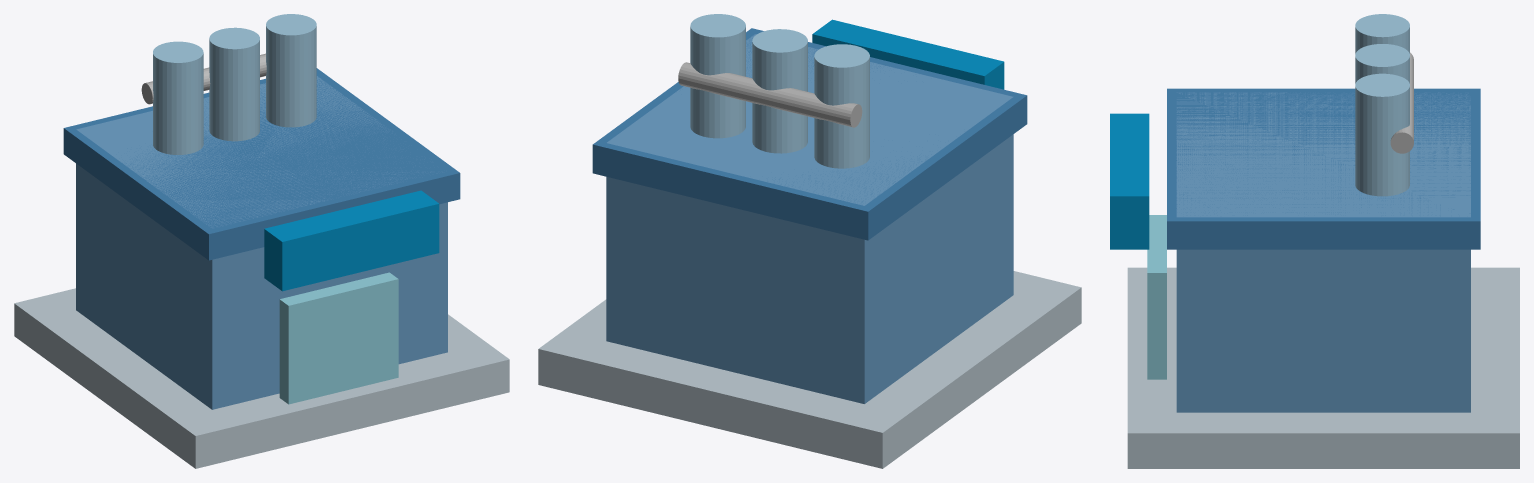
File: fabrica_bebidas_1x1.glb
The picture shows the model from 3 angles, left to right: view 1: azimuth 30°, elevation 25°; view 2: azimuth 150°, elevation 25°; view 3: azimuth 270°, elevation 25°; orthographic projection. The views are drawn at different scales.
Visible parts, largest first — view 1: world; view 2: world; view 3: world.
Part boxes in pixels (bbox=[...]): world: bbox=[14, 14, 509, 468]; world: bbox=[538, 14, 1081, 468]; world: bbox=[1110, 14, 1519, 468].
Size of the model in its own units: 1 by 0.93 by 1.04.
